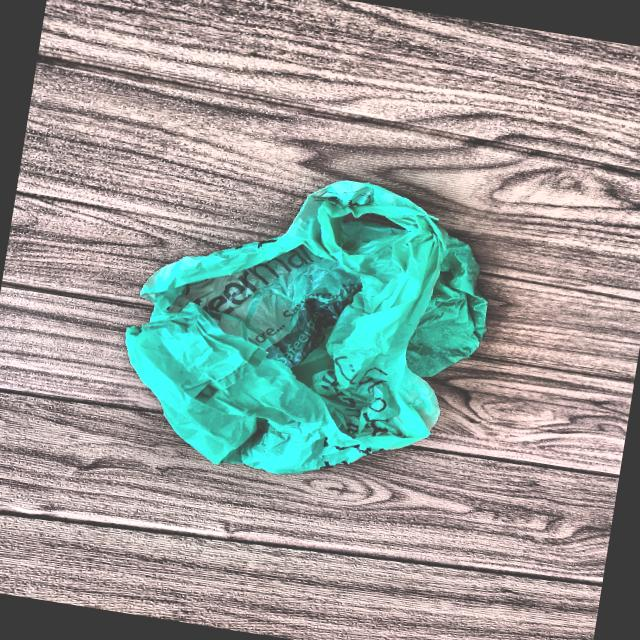plastic bag: (92, 136, 554, 530)
